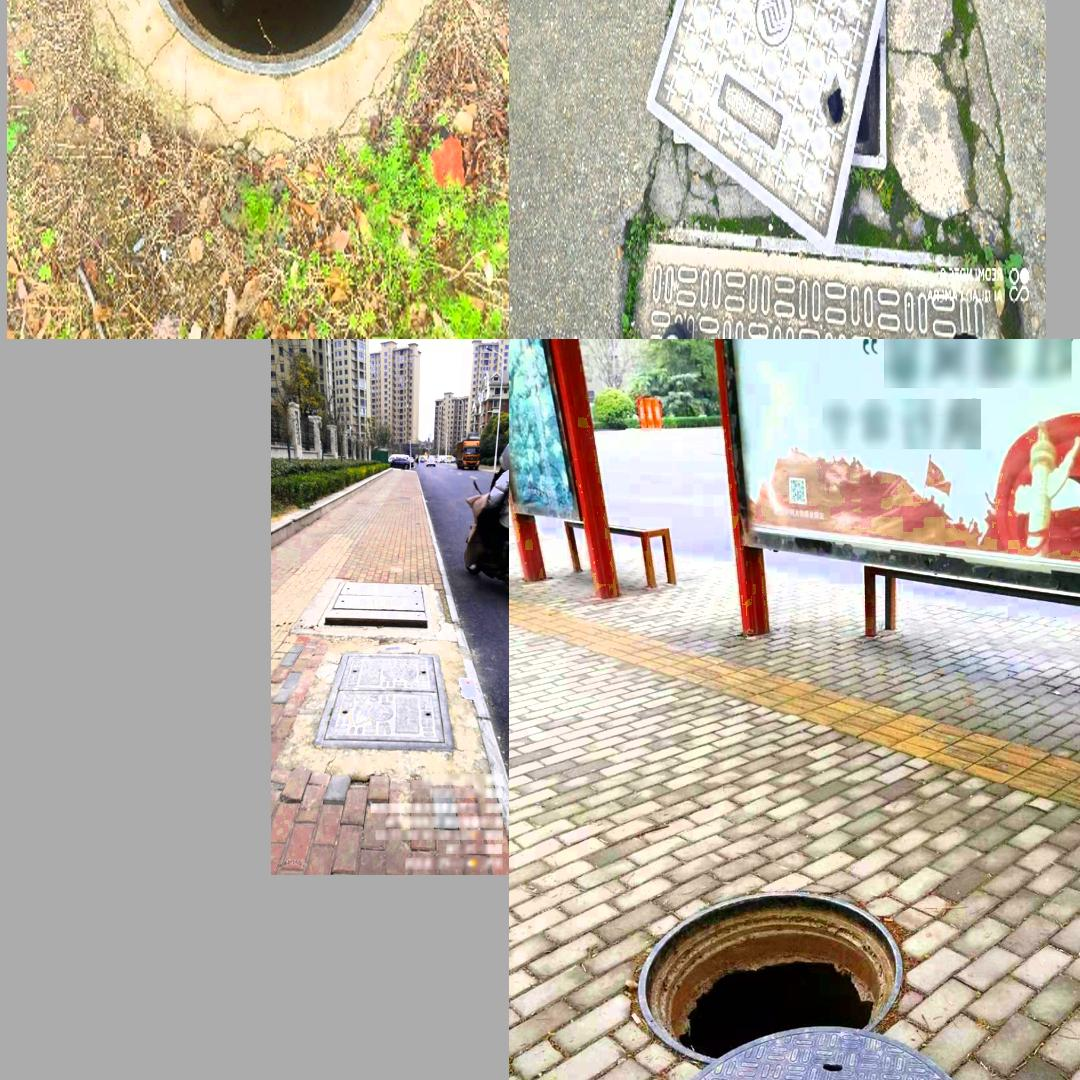good: (312, 653, 455, 752)
uncovered: (635, 888, 988, 1080), (646, 0, 904, 248), (128, 0, 402, 83), (315, 582, 431, 632)
